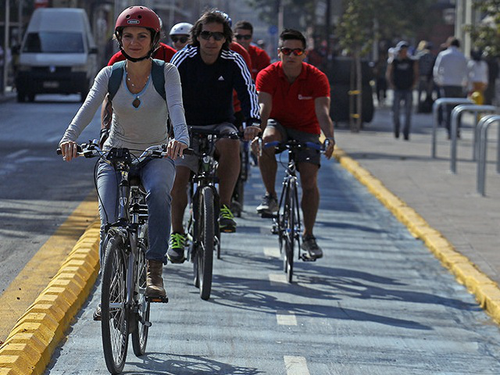bikerider: (62, 4, 189, 369), (160, 8, 266, 293), (238, 23, 341, 282)
